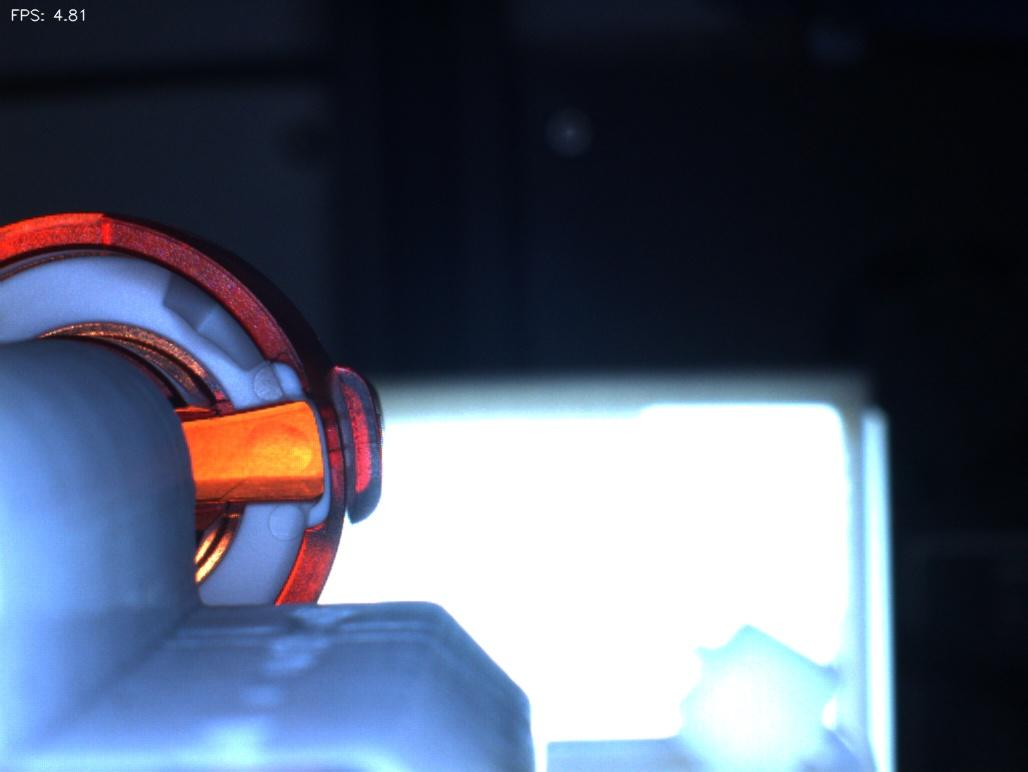Retassure: (226, 415, 319, 487)
